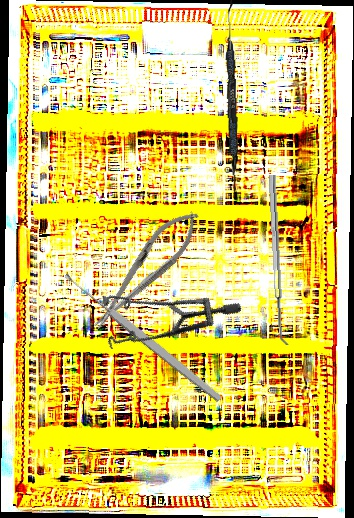Needle Holder: (81, 199, 210, 340)
Spatula Surgical: (221, 0, 243, 197), (268, 174, 292, 346)
Speculum: (82, 246, 244, 394)
Surgical Spoon: (62, 270, 224, 404)
